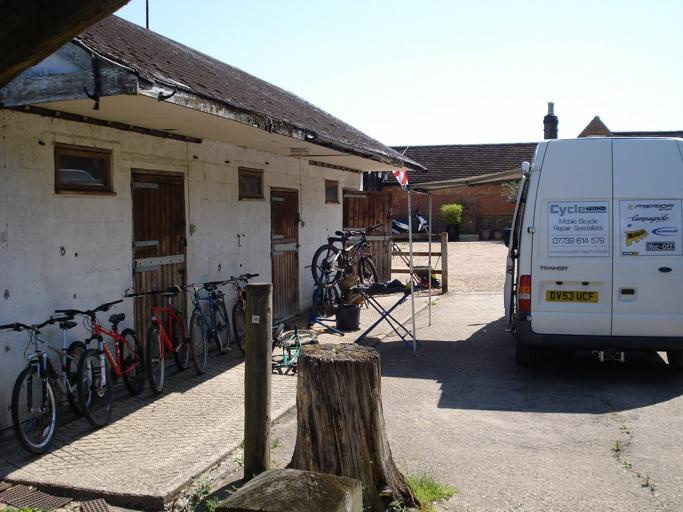non-vehicle: (0, 314, 92, 453), (55, 297, 144, 428), (122, 282, 189, 396), (178, 282, 229, 375), (310, 222, 379, 285), (222, 272, 258, 357), (271, 322, 318, 372), (305, 264, 340, 315)
